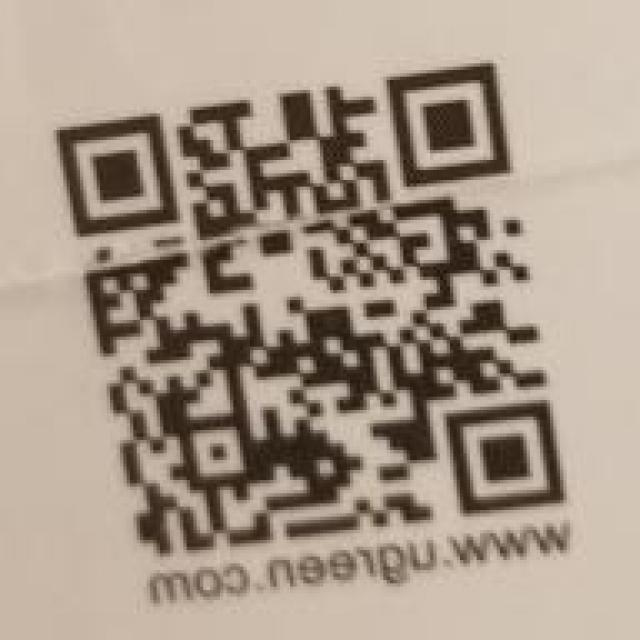QR_CODE: (41, 40, 576, 582)
